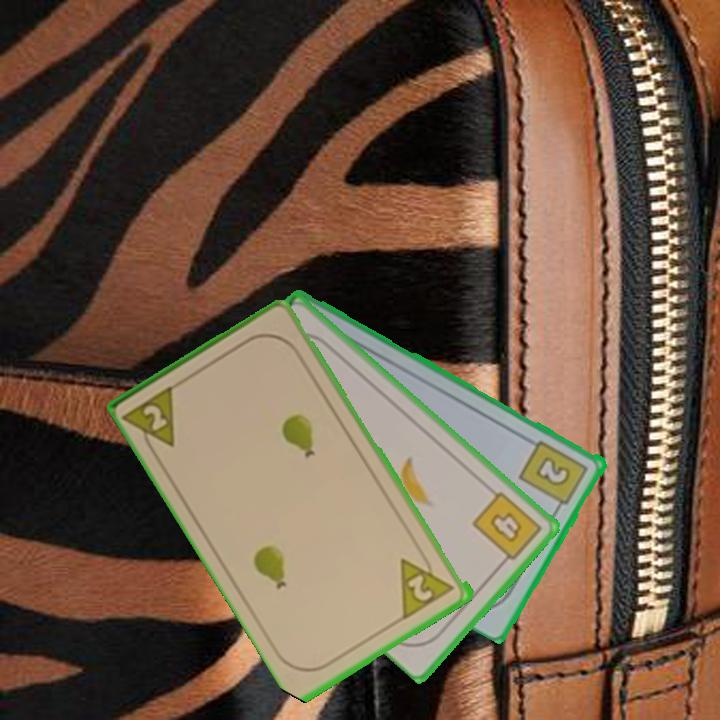2b: (516, 436, 592, 515)
2p: (396, 546, 460, 622), (139, 401, 171, 435)
4b: (468, 487, 545, 569)
